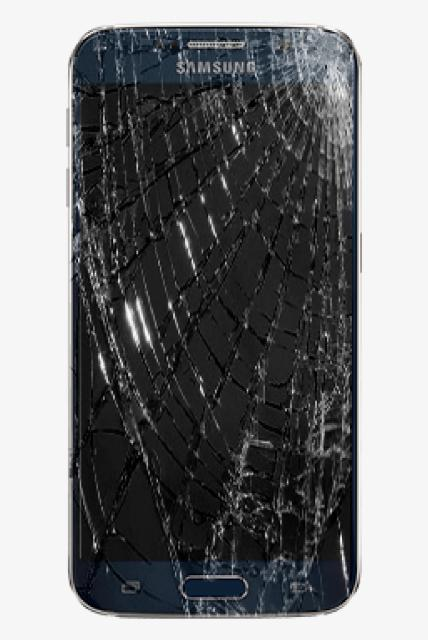Crack: (64, 178, 371, 620), (65, 24, 373, 179)
